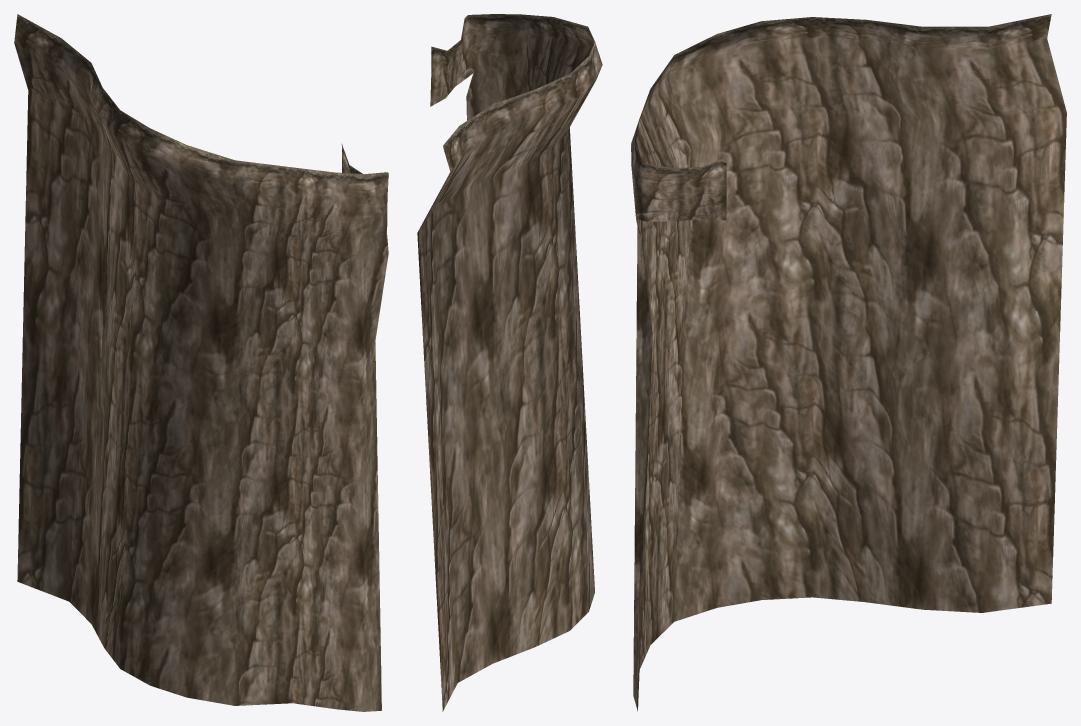
Rendered from OVERHILL_A_01_OBJECT380.fbx.
3 views of the same model, side by side, from view 1: azimuth 30°, elevation 25°; view 2: azimuth 150°, elevation 25°; view 3: azimuth 270°, elevation 25° (orthographic). The views are drawn at different scales.
Parts seen in each view (by area): view 1: OVERHILL_A_01_OBJECT380; view 2: OVERHILL_A_01_OBJECT380; view 3: OVERHILL_A_01_OBJECT380.
Boxes of the visible parts, x1,y1,x2,y2 form: OVERHILL_A_01_OBJECT380: (14, 14, 388, 711); OVERHILL_A_01_OBJECT380: (417, 14, 602, 711); OVERHILL_A_01_OBJECT380: (631, 14, 1066, 711).
Size of the model in its own units: 71926 by 210203 by 135213.
2 materials, 2 textured.
